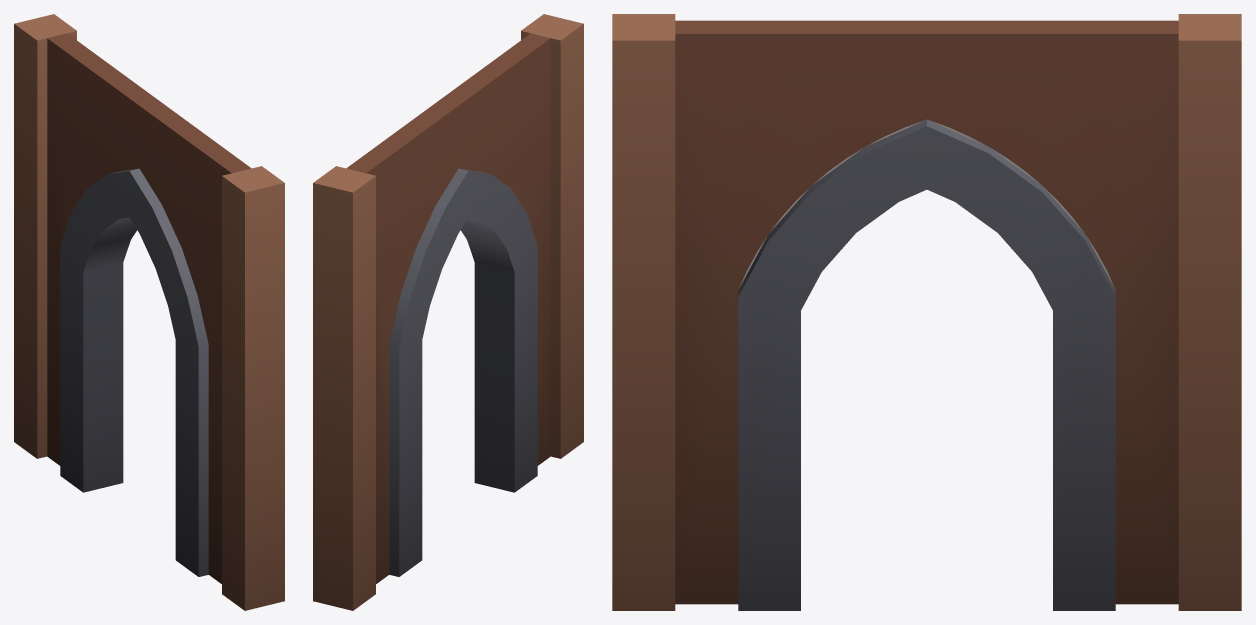
The model's file is wall-wood-doorway-round.glb.
3 renders of one model, left to right at view 1: azimuth 30°, elevation 25°; view 2: azimuth 150°, elevation 25°; view 3: azimuth 270°, elevation 25°, orthographic. The views are drawn at different scales.
Parts seen in each view (by area): view 1: wall-wood-doorway-round; view 2: wall-wood-doorway-round; view 3: wall-wood-doorway-round.
Boxes of the visible parts, x1,y1,x2,y2 form: wall-wood-doorway-round: (14,14,284,610); wall-wood-doorway-round: (313,14,583,610); wall-wood-doorway-round: (612,14,1241,610).
Size of the model in its own units: 0.2999 by 3 by 3.
